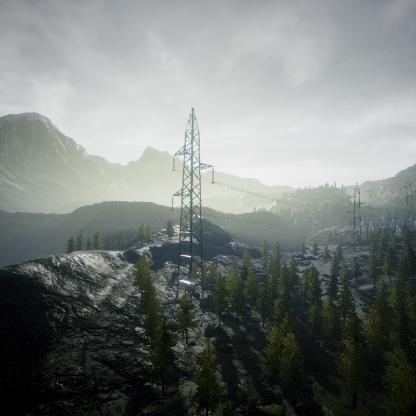tower: (169, 106, 216, 298), (343, 181, 369, 245)
